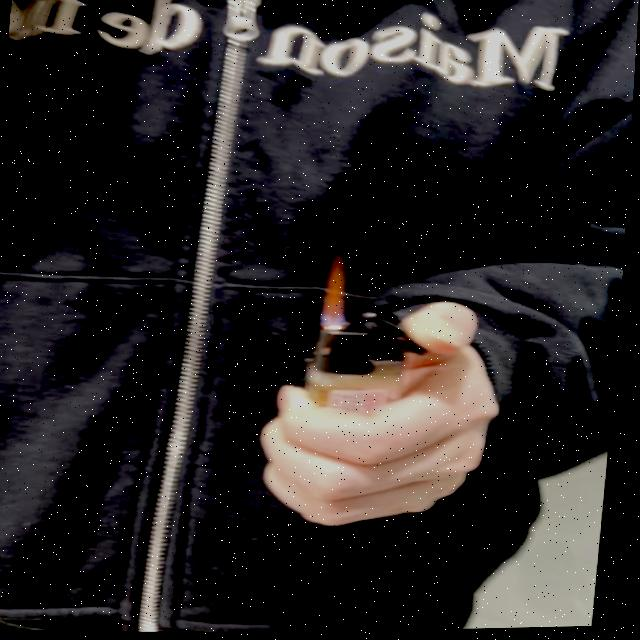Fire: (320, 238, 358, 333)
